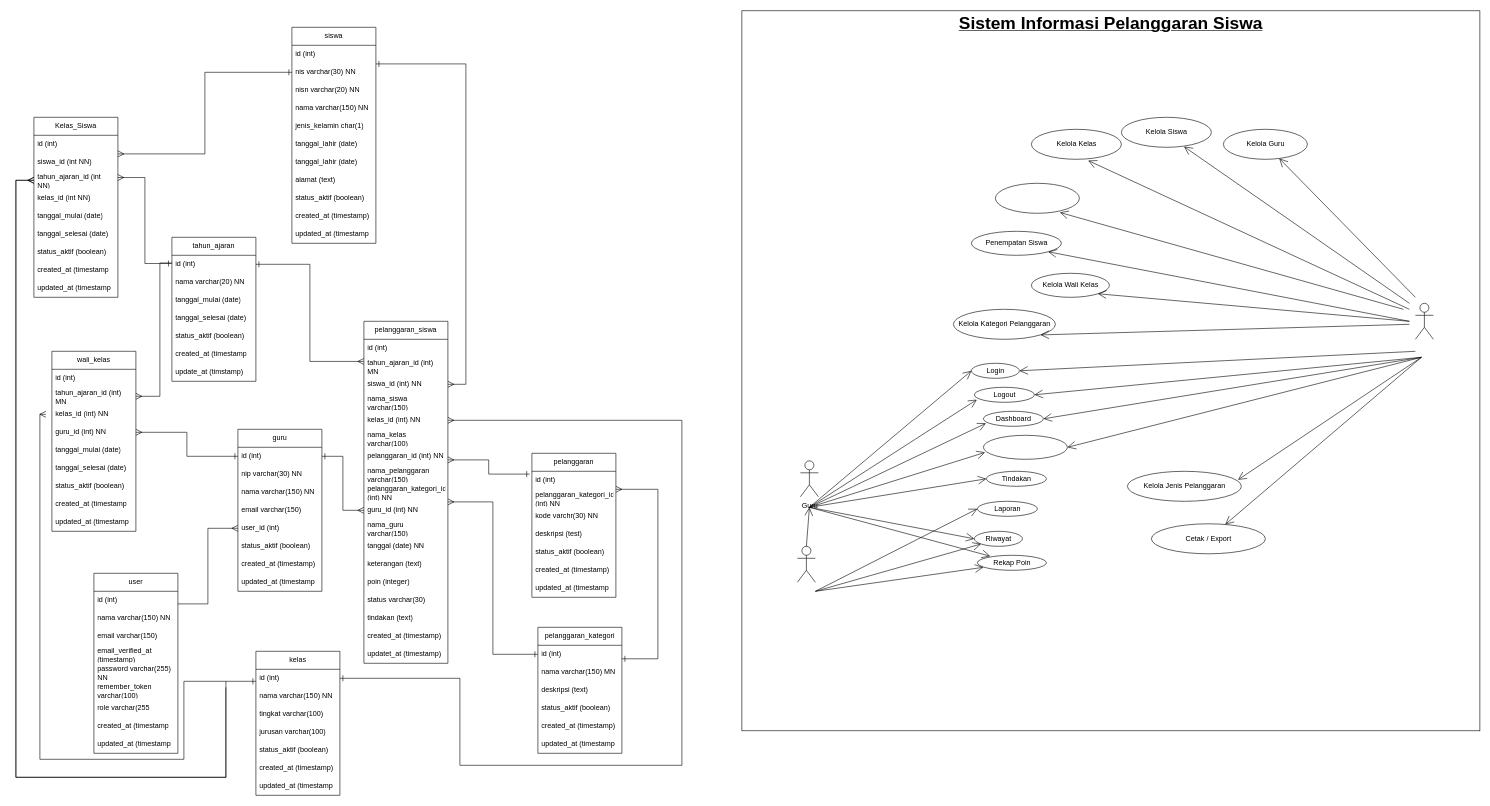
Image size: 1490x806. Some labels were removed from this diagram. Here are the shapes that lost their labels. From the top down, the centre of each, then its label:
At pixel 1037 198: "Kelolaa Tahun Ajaran".
At pixel 1424 321: "Admin".
At pixel 1025 447: "Catat Pelanggaran".
At pixel 806 564: "Wali Kelas".
